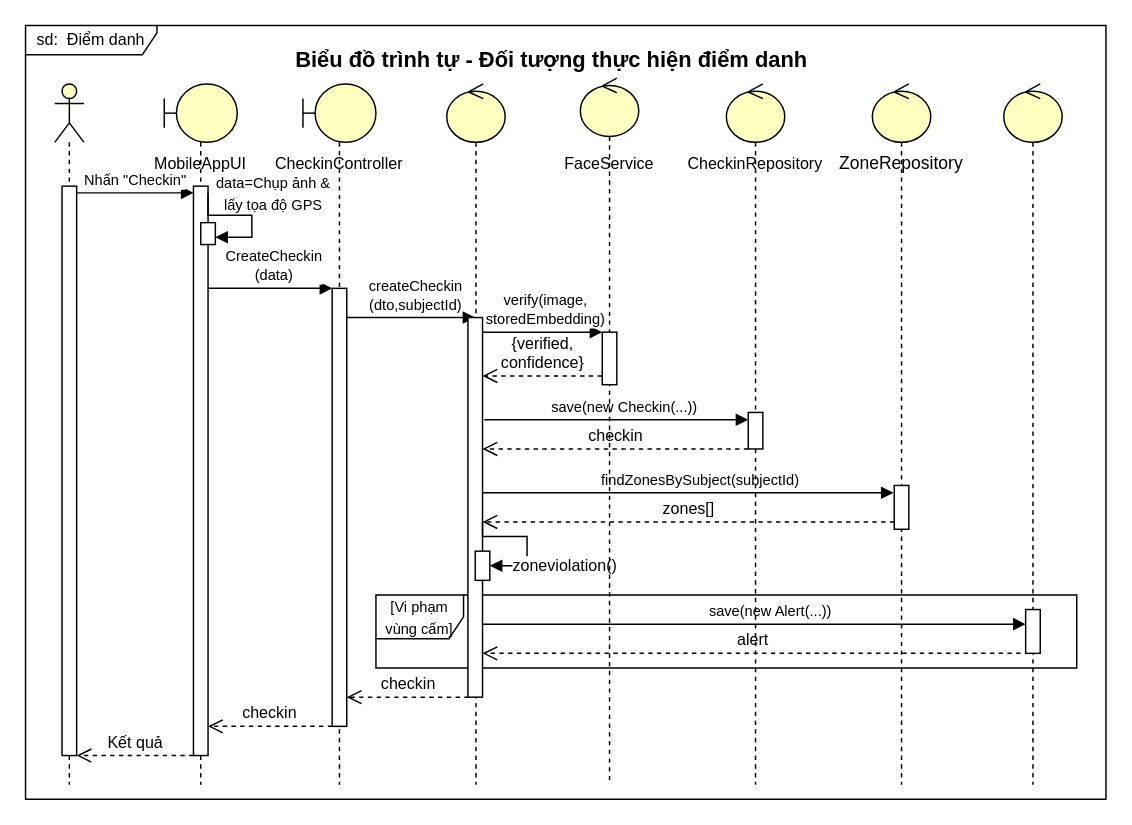
Image size: 1132x825. Some labels were removed from this diagram. The box of each missing label's shape, as (x1, y1, x2, y2) in pixels:
AlertRepository: (1002, 82, 1062, 785)
CheckinService: (445, 82, 505, 785)
Đối tượng: (53, 82, 84, 785)
